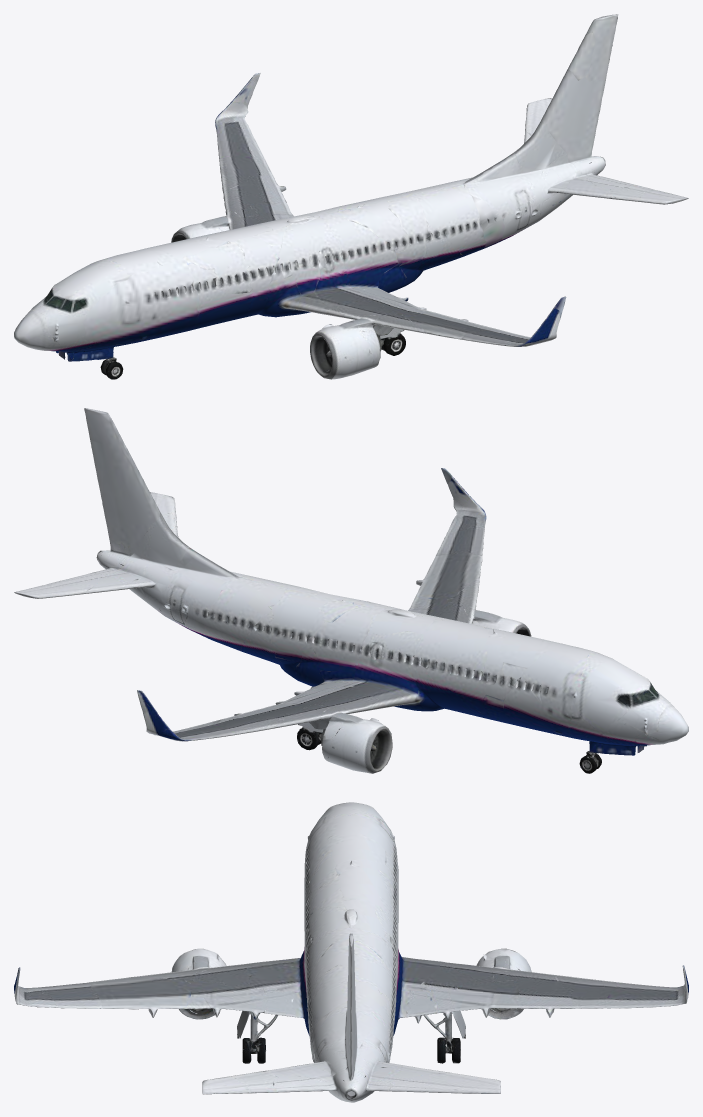
File: co_airliner_p.glb
3 renders of one model, top to bottom at view 1: azimuth 30°, elevation 25°; view 2: azimuth 150°, elevation 25°; view 3: azimuth 270°, elevation 25°, orthographic. The views are drawn at different scales.
Bounding box in the file's own units: 1.9 × 0.7194 × 1.68.
Materials: 1 (1 with a texture image).
